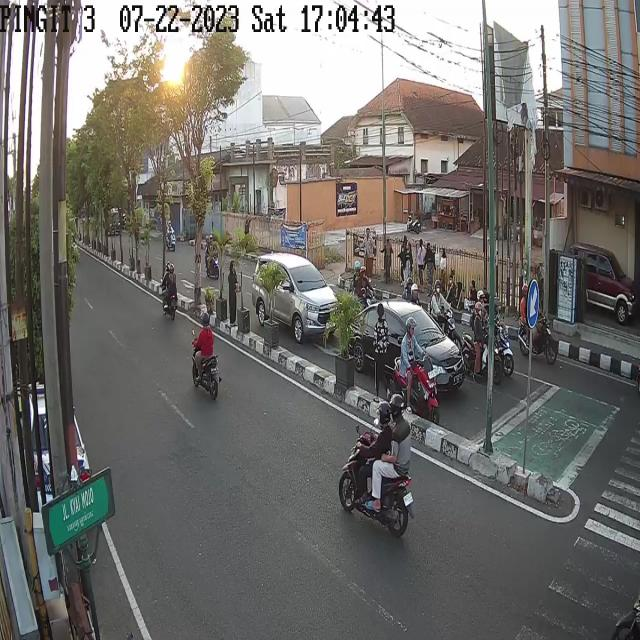car: (348, 288, 463, 397), (250, 251, 338, 344), (574, 244, 638, 326)
motorcycle: (339, 394, 416, 540), (384, 324, 444, 424), (519, 284, 555, 362), (465, 301, 498, 381), (190, 319, 221, 401), (352, 264, 378, 316), (159, 266, 178, 321), (203, 233, 223, 280), (165, 222, 179, 252), (406, 219, 422, 234)
